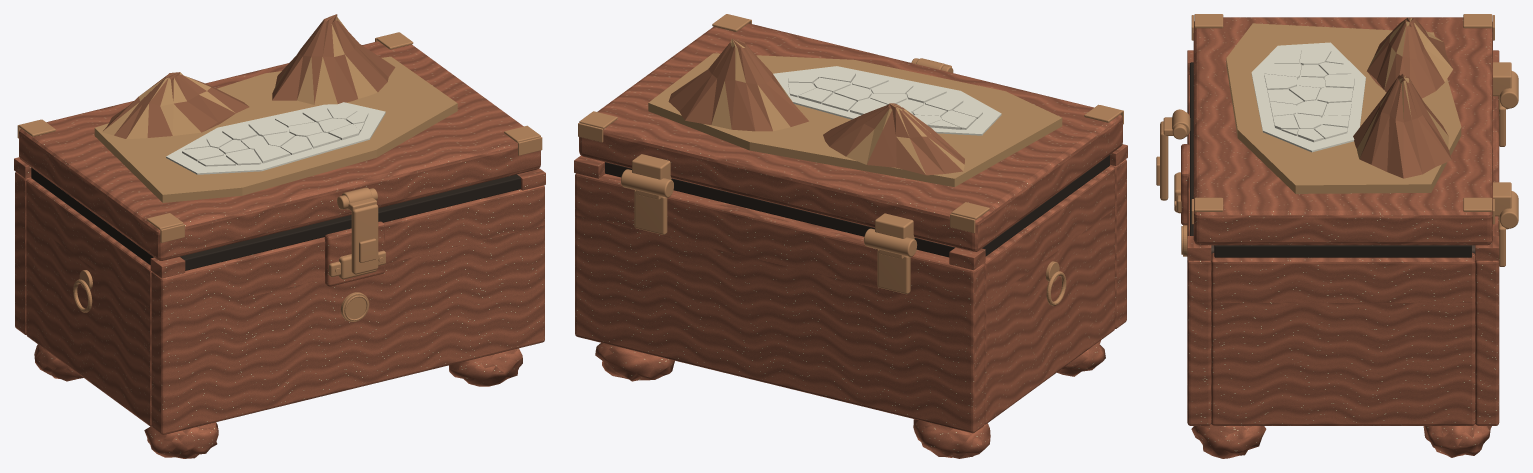
File: chile.glb
3 renders of one model, left to right at view 1: azimuth 30°, elevation 25°; view 2: azimuth 150°, elevation 25°; view 3: azimuth 270°, elevation 25°, orthographic. The views are drawn at different scales.
Parts seen in each view (by area): view 1: Desert shell / front, Lid / polished slab, Desert shell / side, Terrain / desert island, Ridge / eastern volcanic silhouette, Ridge / western folded desert, Mineral seam / long, Salt basin / bed, Desert shell / rear, Desert stone foot, Desert stone foot.002, Latch / lifting hasp (+5 smaller); view 2: Desert shell / rear, Lid / polished slab, Desert shell / side, Terrain / desert island, Ridge / eastern volcanic silhouette, Ridge / western folded desert, Mineral seam / long.001, Salt basin / bed, Desert stone foot.001, Desert stone foot.003, Desert shell / front, Mineral seam / side (+8 smaller); view 3: Desert shell / side.001, Lid / polished slab, Terrain / desert island, Ridge / eastern volcanic silhouette, Desert shell / rear, Desert shell / front, Ridge / western folded desert, Salt basin / bed, Mineral seam / side.001, Desert stone foot.002, Desert stone foot.003, Mineral seam / long (+19 smaller).
Part boxes in pixels (bbox=[...]): Desert shell / front: bbox=[151, 185, 544, 434]; Lid / polished slab: bbox=[19, 41, 540, 260]; Desert shell / side: bbox=[26, 178, 152, 426]; Terrain / desert island: bbox=[94, 56, 457, 202]; Ridge / eastern volcanic silhouette: bbox=[272, 14, 395, 104]; Ridge / western folded desert: bbox=[102, 72, 249, 139]; Mineral seam / long: bbox=[180, 174, 520, 270]; Salt basin / bed: bbox=[166, 102, 385, 174]; Desert shell / rear: bbox=[15, 172, 31, 334]; Desert stone foot: bbox=[144, 422, 218, 458]; Desert stone foot.002: bbox=[449, 348, 522, 386]; Latch / lifting hasp: bbox=[351, 204, 378, 274]; Desert shell / rear: bbox=[575, 173, 984, 433]; Lid / polished slab: bbox=[579, 23, 1122, 251]; Desert shell / side: bbox=[984, 166, 1114, 424]; Terrain / desert island: bbox=[648, 53, 1062, 187]; Ridge / eastern volcanic silhouette: bbox=[668, 38, 808, 131]; Ridge / western folded desert: bbox=[823, 103, 964, 175]; Mineral seam / long.001: bbox=[605, 162, 954, 257]; Salt basin / bed: bbox=[773, 66, 1001, 135]; Desert stone foot.001: bbox=[913, 419, 990, 458]; Desert stone foot.003: bbox=[595, 342, 674, 381]; Desert shell / front: bbox=[1110, 159, 1126, 328]; Mineral seam / side: bbox=[982, 155, 1109, 256]; Desert shell / side.001: bbox=[1211, 252, 1475, 425]; Lid / polished slab: bbox=[1193, 17, 1492, 245]; Terrain / desert island: bbox=[1226, 23, 1461, 193]; Ridge / eastern volcanic silhouette: bbox=[1353, 74, 1451, 178]; Desert shell / rear: bbox=[1475, 96, 1499, 425]; Desert shell / front: bbox=[1187, 75, 1211, 425]; Ridge / western folded desert: bbox=[1367, 17, 1453, 98]; Salt basin / bed: bbox=[1251, 42, 1365, 152]; Mineral seam / side.001: bbox=[1214, 245, 1471, 257]; Desert stone foot.002: bbox=[1191, 424, 1266, 458]; Desert stone foot.003: bbox=[1423, 424, 1491, 457]; Mineral seam / long: bbox=[1190, 62, 1193, 235].
Size of the model in its own units: 3.79 by 2.99 by 2.88.
Materials: 7 (1 with a texture image).
